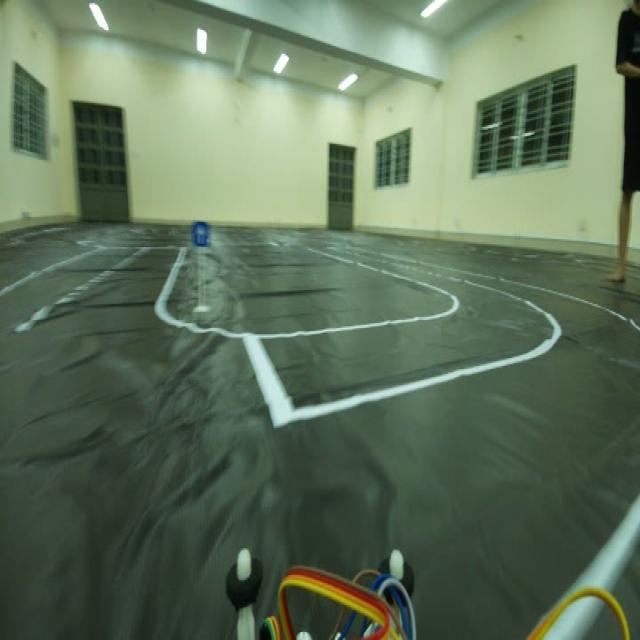onewayroad: (191, 219, 213, 253)
